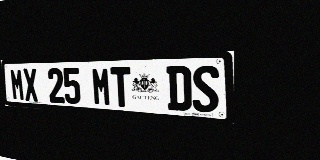2: (47, 68, 65, 103)
5: (63, 68, 81, 104)
D: (166, 66, 192, 111)
M: (91, 67, 112, 106), (10, 68, 25, 101)
S: (192, 65, 219, 113)
T: (110, 67, 132, 108)
X: (22, 68, 39, 102)
